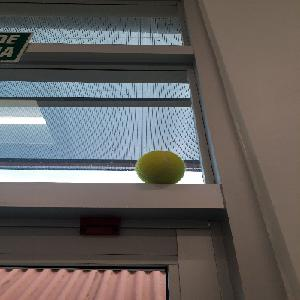Ball: (136, 151, 185, 183)
